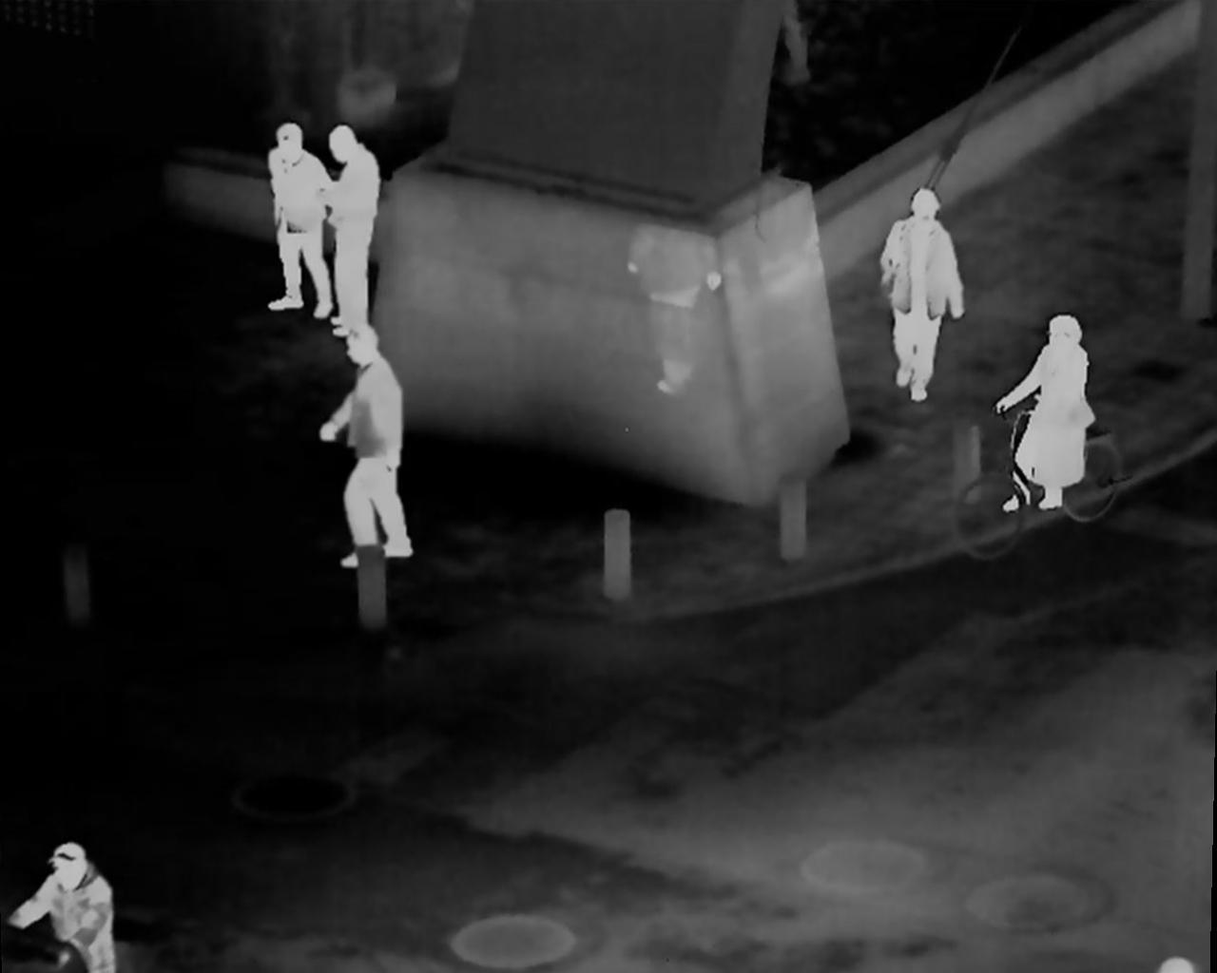person: (305, 326, 410, 564), (997, 308, 1107, 522), (885, 180, 974, 403), (308, 124, 382, 332), (15, 844, 121, 967), (262, 124, 321, 313)
